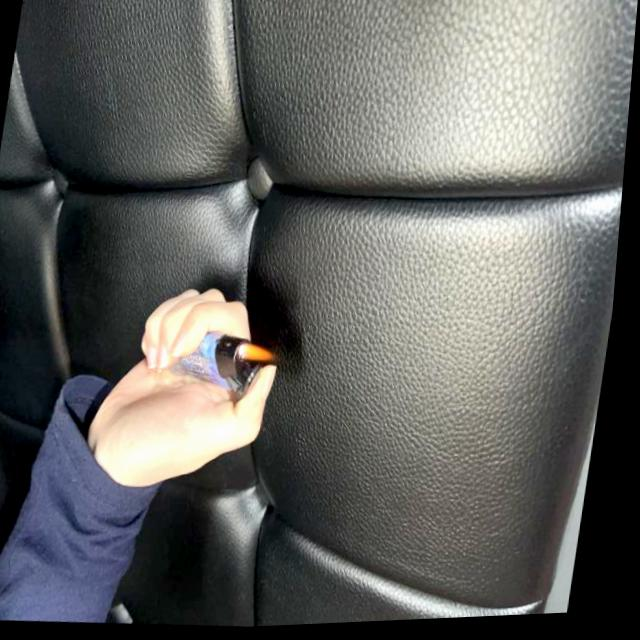helmet: (241, 342, 284, 365)
